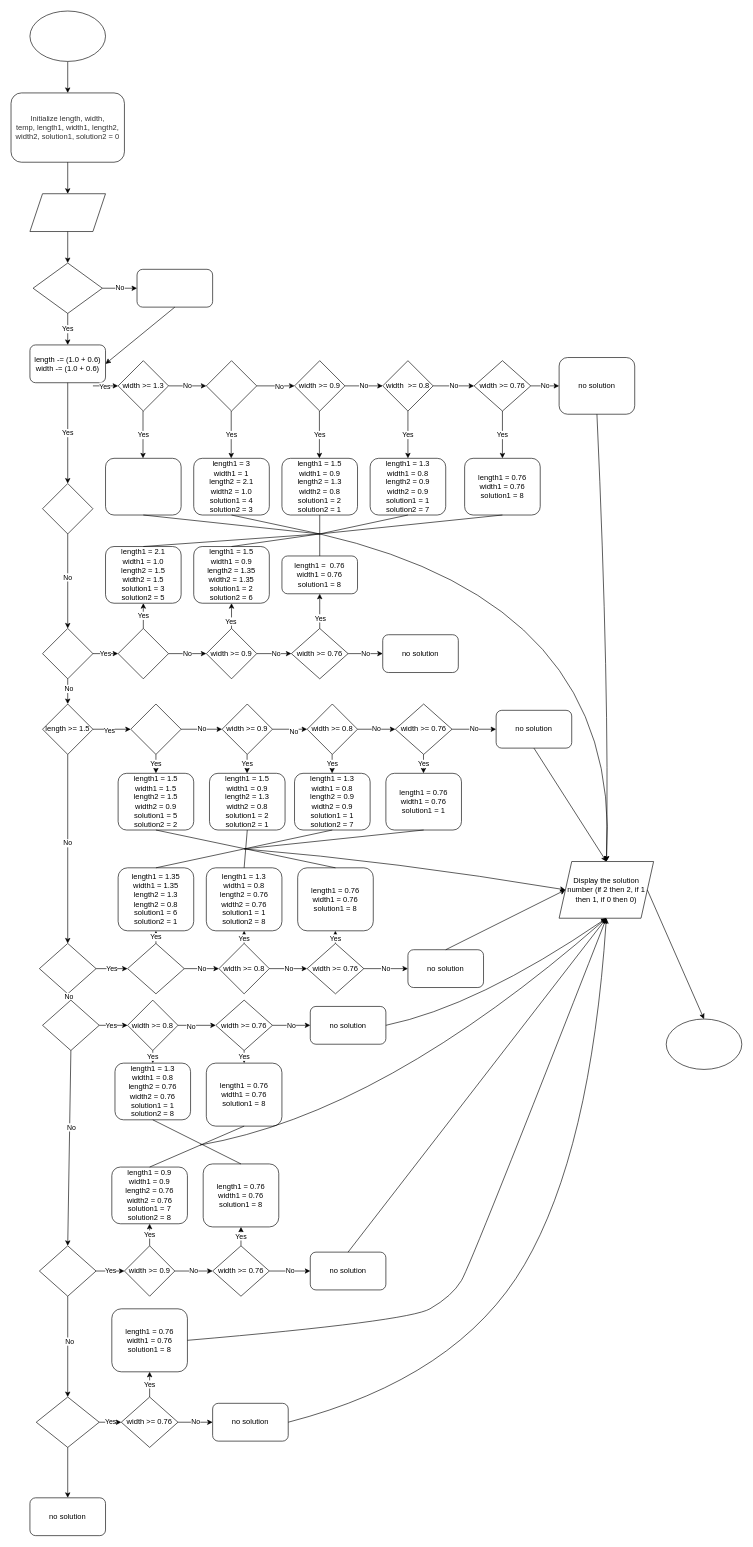
Image size: 753x1547. Some labels were removed from this diagram. Here are the shapes that lost their labels. From the top down, the box of each, then its label:
(29, 10, 106, 61): Start
(29, 193, 106, 232): Get length, width
(32, 262, 102, 313): (width <= length)
(136, 269, 213, 307): temp = length length = width width = temp
(206, 360, 257, 411): width >= 1
(105, 458, 181, 515): length1 = 3 width1 = 1.3 length2 = 3 width2 = 1 solution1 = 9 solution2 = 4
(42, 483, 93, 534): length >= 3
(42, 628, 93, 679): length >= 2.1
(117, 628, 169, 679): width >= 1.0
(130, 703, 181, 754): width >= 1.5
(39, 943, 96, 994): length >= 1.35
(127, 943, 184, 994): width >= 1.35
(42, 999, 99, 1051): length >= 1.3
(666, 1018, 742, 1069): End
(39, 1245, 96, 1296): length >= 0.9
(36, 1396, 99, 1447): length >= 0.76
